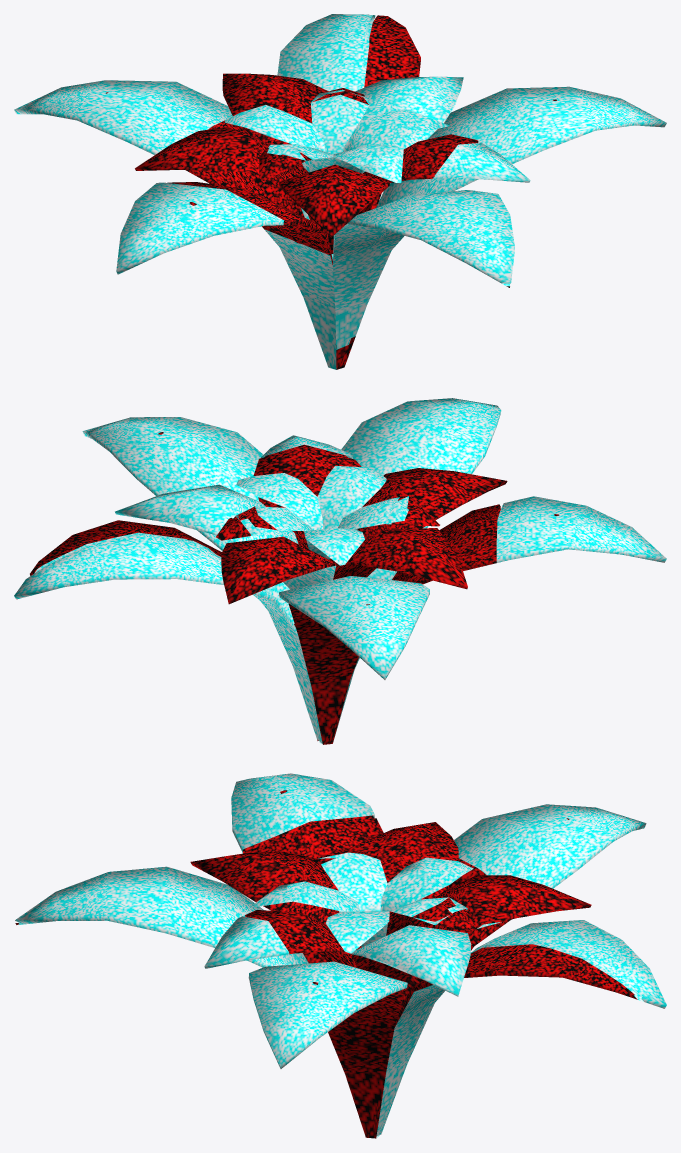
File: SM_Ergopiece_01_GDH.fbx
3 renders of one model, top to bottom at view 1: azimuth 30°, elevation 25°; view 2: azimuth 150°, elevation 25°; view 3: azimuth 270°, elevation 25°, orthographic. The views are drawn at different scales.
Parts seen in each view (by area): view 1: SM_Ergopiece_01_GDH; view 2: SM_Ergopiece_01_GDH; view 3: SM_Ergopiece_01_GDH.
Part boxes in pixels (x1,y1,x2,y2): SM_Ergopiece_01_GDH: [14, 14, 666, 369]; SM_Ergopiece_01_GDH: [14, 398, 666, 744]; SM_Ergopiece_01_GDH: [15, 773, 666, 1138].
Size of the model in its own units: 20.52 by 8.41 by 19.72.
